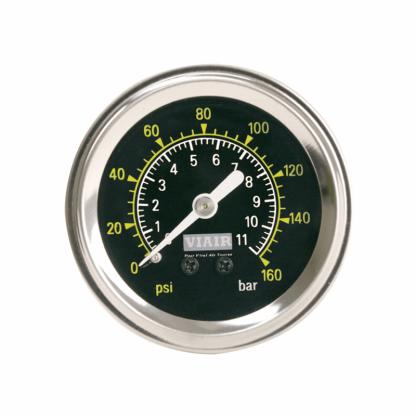needle: (136, 209, 200, 268)
